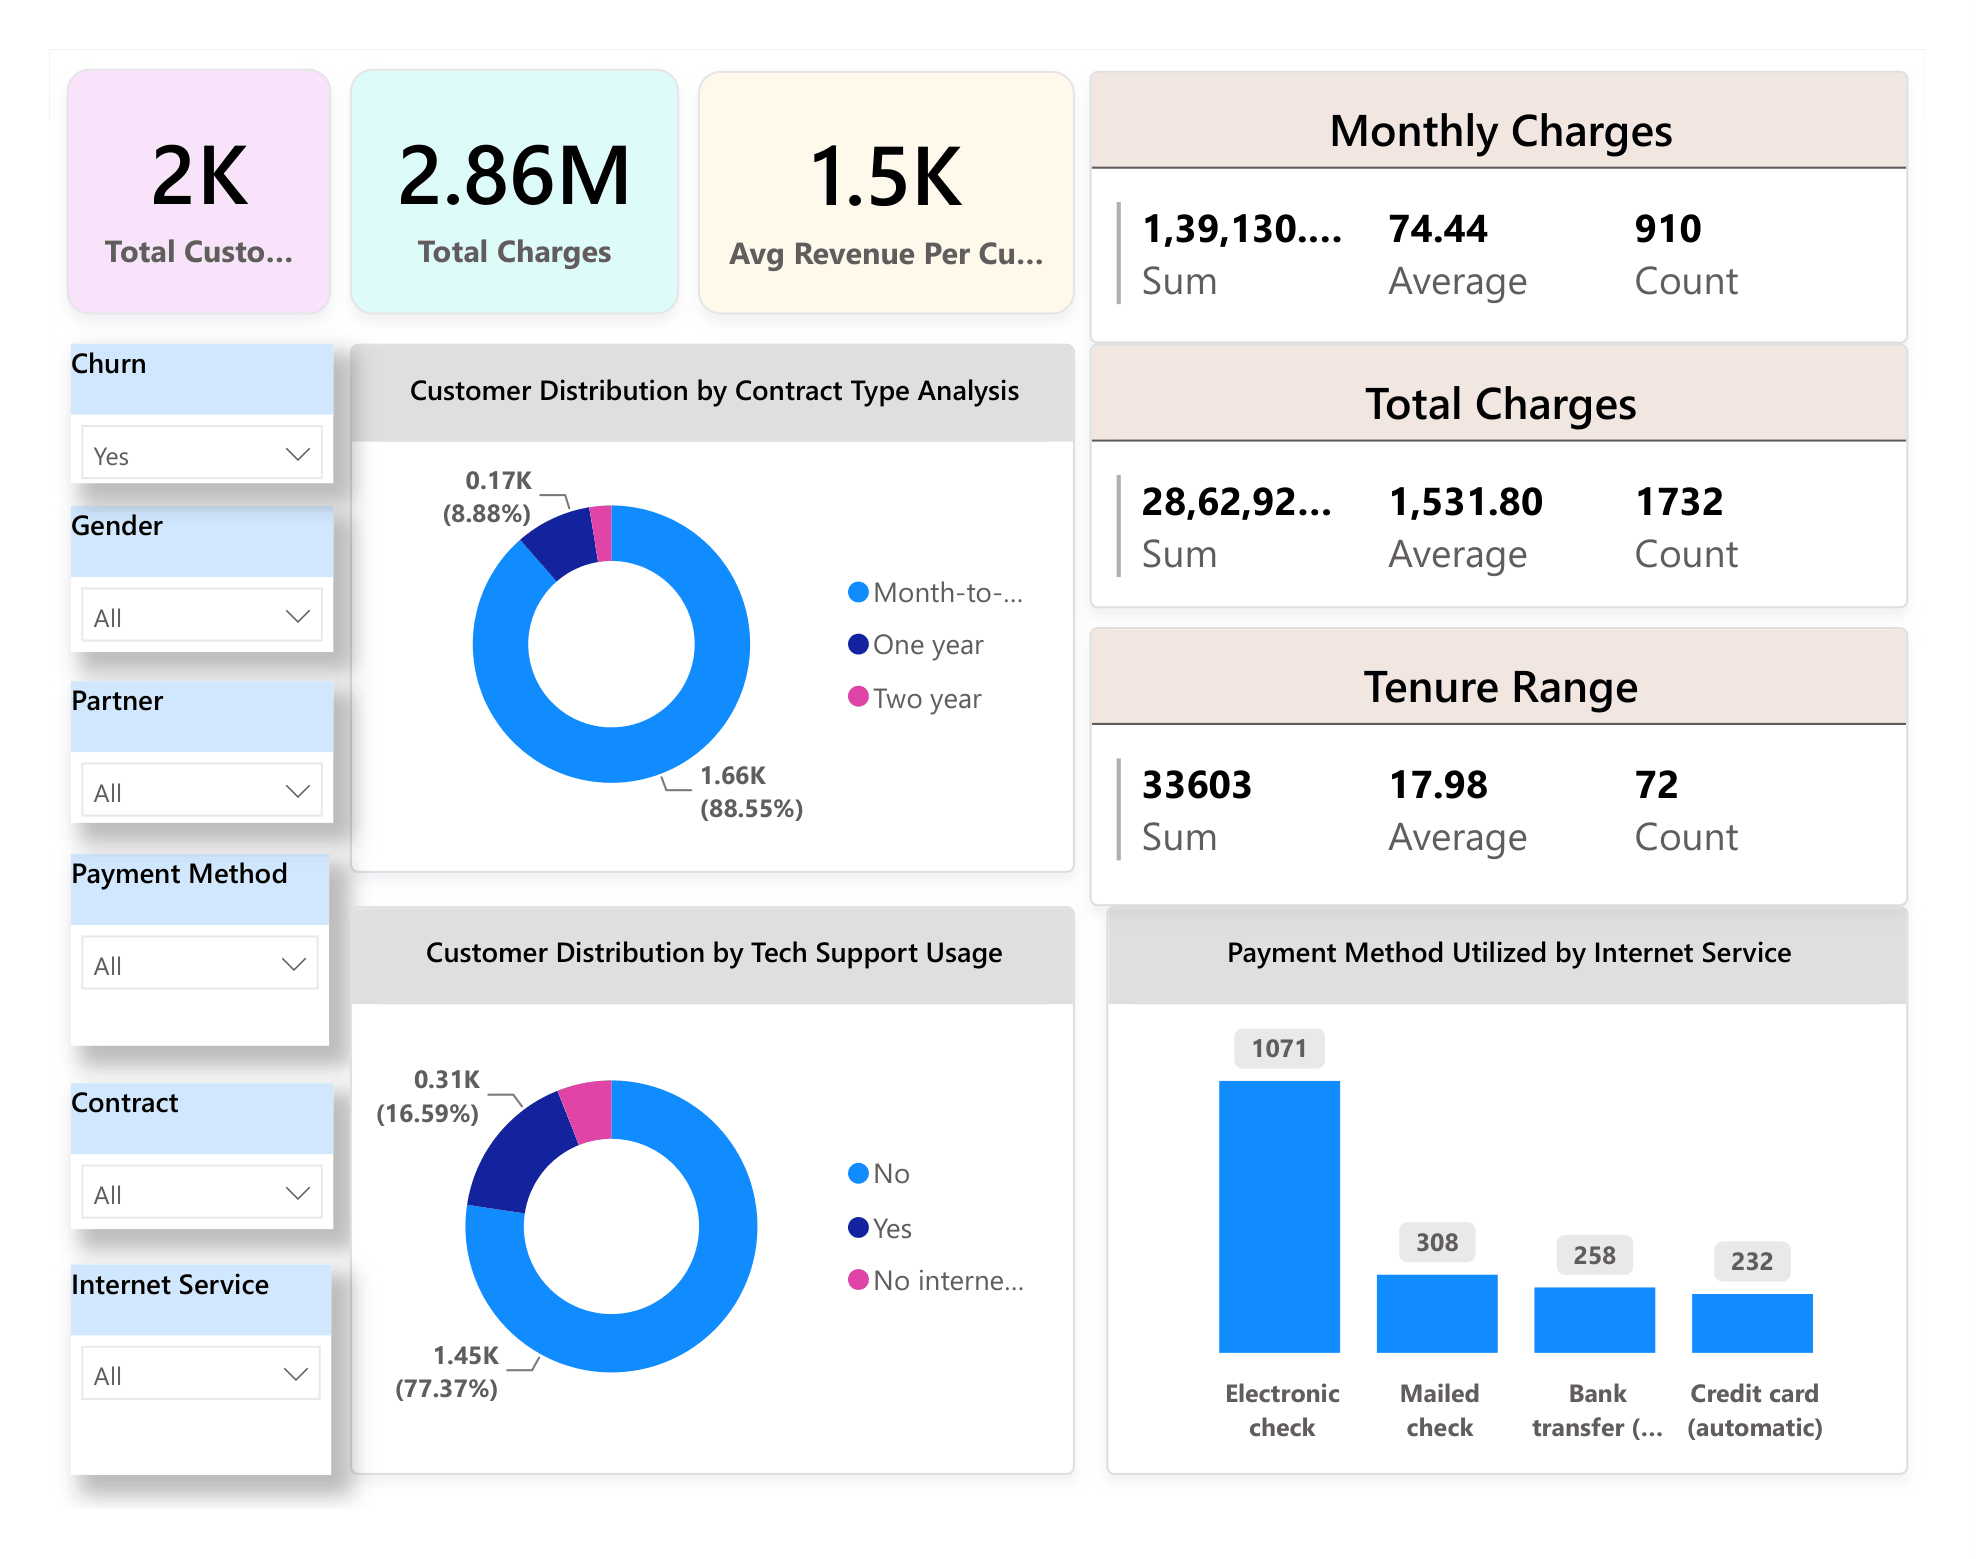

The page's visual inventory and layout, read from the dashboard file:
{"tool":"powerbi","page":{"name":"Overview & Key Metrics","canvas":[900,700],"ordinal":0},"visuals":[{"type":"donutChart","title":"Customer Distribution by Contract Type Analysis","fields":{"Category":["WA_Fn-UseC_-Telco-Customer-Churn.Contract"],"Y":["CountNonNull(WA_Fn-UseC_-Telco-Customer-Churn.customerID)"]},"box":[144,141,348,254],"z":0},{"type":"clusteredColumnChart","title":"Payment Method Utilized by Internet Service","fields":{"Category":["WA_Fn-UseC_-Telco-Customer-Churn.PaymentMethod"],"Y":["CountNonNull(WA_Fn-UseC_-Telco-Customer-Churn.InternetService)"]},"box":[507,411,385,273],"z":1000},{"type":"card","fields":{"Values":["CountNonNull(WA_Fn-UseC_-Telco-Customer-Churn.customerID)"]},"box":[8,9,127,118],"z":2000},{"type":"card","fields":{"Values":["Sum(WA_Fn-UseC_-Telco-Customer-Churn.TotalCharges)"]},"box":[144,9,158,118],"z":3000},{"type":"multiRowCard","title":"Monthly Charges","fields":{"Values":["Sum(WA_Fn-UseC_-Telco-Customer-Churn.MonthlyCharges)","Avg(WA_Fn-UseC_-Telco-Customer-Churn.MonthlyCharges)","Count(WA_Fn-UseC_-Telco-Customer-Churn.MonthlyCharges)"]},"box":[499,10,393,131],"z":4000},{"type":"slicer","title":"Gender","fields":{"Values":["WA_Fn-UseC_-Telco-Customer-Churn.gender"]},"box":[10,219,126,70],"z":5000},{"type":"slicer","title":"Payment Method","fields":{"Values":["WA_Fn-UseC_-Telco-Customer-Churn.PaymentMethod"]},"box":[10,386,124,92],"z":6000},{"type":"slicer","title":"Partner","fields":{"Values":["WA_Fn-UseC_-Telco-Customer-Churn.Partner"]},"box":[10,303,126,68],"z":7000},{"type":"slicer","title":"Contract","fields":{"Values":["WA_Fn-UseC_-Telco-Customer-Churn.Contract"]},"box":[10,496,126,70],"z":8000},{"type":"multiRowCard","title":"Total Charges","fields":{"Values":["Sum(WA_Fn-UseC_-Telco-Customer-Churn.TotalCharges)","Avg(WA_Fn-UseC_-Telco-Customer-Churn.TotalCharges)","Count(WA_Fn-UseC_-Telco-Customer-Churn.TotalCharges)"]},"box":[499,141,393,127],"z":9000},{"type":"multiRowCard","title":"Tenure Range","fields":{"Values":["Sum(WA_Fn-UseC_-Telco-Customer-Churn.tenure)","Avg(WA_Fn-UseC_-Telco-Customer-Churn.tenure)","Count(WA_Fn-UseC_-Telco-Customer-Churn.tenure)"]},"box":[499,277,393,134],"z":10000},{"type":"donutChart","title":"Customer Distribution by Tech Support Usage","fields":{"Category":["WA_Fn-UseC_-Telco-Customer-Churn.TechSupport"],"Y":["CountNonNull(WA_Fn-UseC_-Telco-Customer-Churn.customerID)"]},"box":[144,411,348,273],"z":11000},{"type":"slicer","title":"Internet Service","fields":{"Values":["WA_Fn-UseC_-Telco-Customer-Churn.InternetService"]},"box":[10,583,125,101],"z":12000},{"type":"slicer","title":"Churn","fields":{"Values":["WA_Fn-UseC_-Telco-Customer-Churn.Churn"]},"box":[10,141,126,67],"z":13000},{"type":"card","title":"arpc","fields":{"Values":["WA_Fn-UseC_-Telco-Customer-Churn.ARPU"]},"box":[311.5,9.5,180.7,117.7],"z":14000}]}

Visuals, with their boxes on the page's 900x700 design canvas (x1, y1, x2, y2). These are canvas units, not pixel positions in the 1976x1559 screenshot, which may show the page scaled, cropped or inside an application window:
"Customer Distribution by Contract Type Analysis" donutChart: bbox=[144, 141, 492, 395]
"Payment Method Utilized by Internet Service" clusteredColumnChart: bbox=[507, 411, 892, 684]
card - CountNonNull(WA_Fn-UseC_-Telco-Customer-Churn.customerID): bbox=[8, 9, 135, 127]
card - Sum(WA_Fn-UseC_-Telco-Customer-Churn.TotalCharges): bbox=[144, 9, 302, 127]
"Monthly Charges" multiRowCard: bbox=[499, 10, 892, 141]
"Gender" slicer: bbox=[10, 219, 136, 289]
"Payment Method" slicer: bbox=[10, 386, 134, 478]
"Partner" slicer: bbox=[10, 303, 136, 371]
"Contract" slicer: bbox=[10, 496, 136, 566]
"Total Charges" multiRowCard: bbox=[499, 141, 892, 268]
"Tenure Range" multiRowCard: bbox=[499, 277, 892, 411]
"Customer Distribution by Tech Support Usage" donutChart: bbox=[144, 411, 492, 684]
"Internet Service" slicer: bbox=[10, 583, 135, 684]
"Churn" slicer: bbox=[10, 141, 136, 208]
"arpc" card: bbox=[312, 10, 492, 127]
